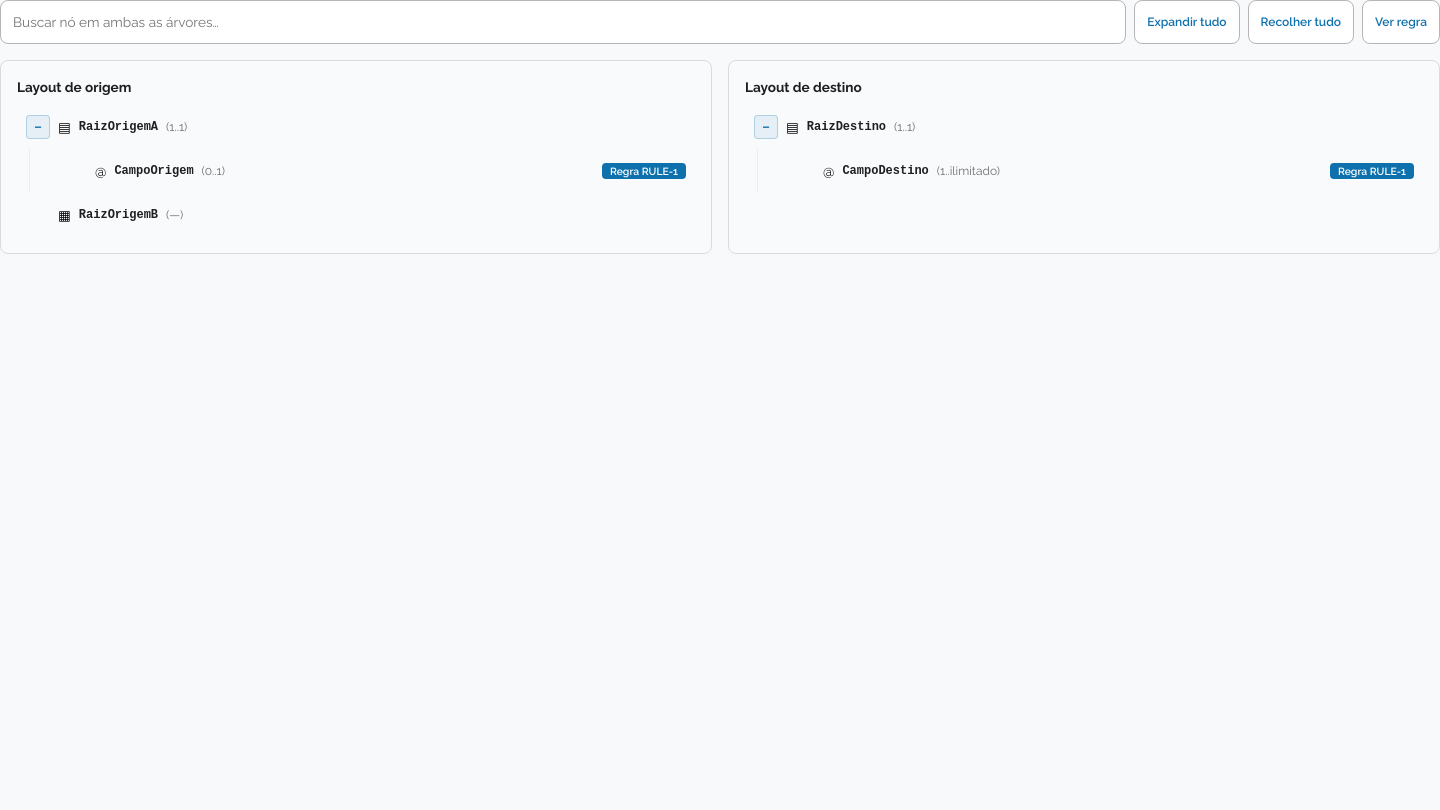
Test: MappingLayoutTreeView › abre o painel de detalhe da regra com humanDescription e technicalDetail preservando quebras de linha
This screenshot has width=1440, height=810.
Click the text "CampoOrigem": (154, 171) [114,164,194,178]
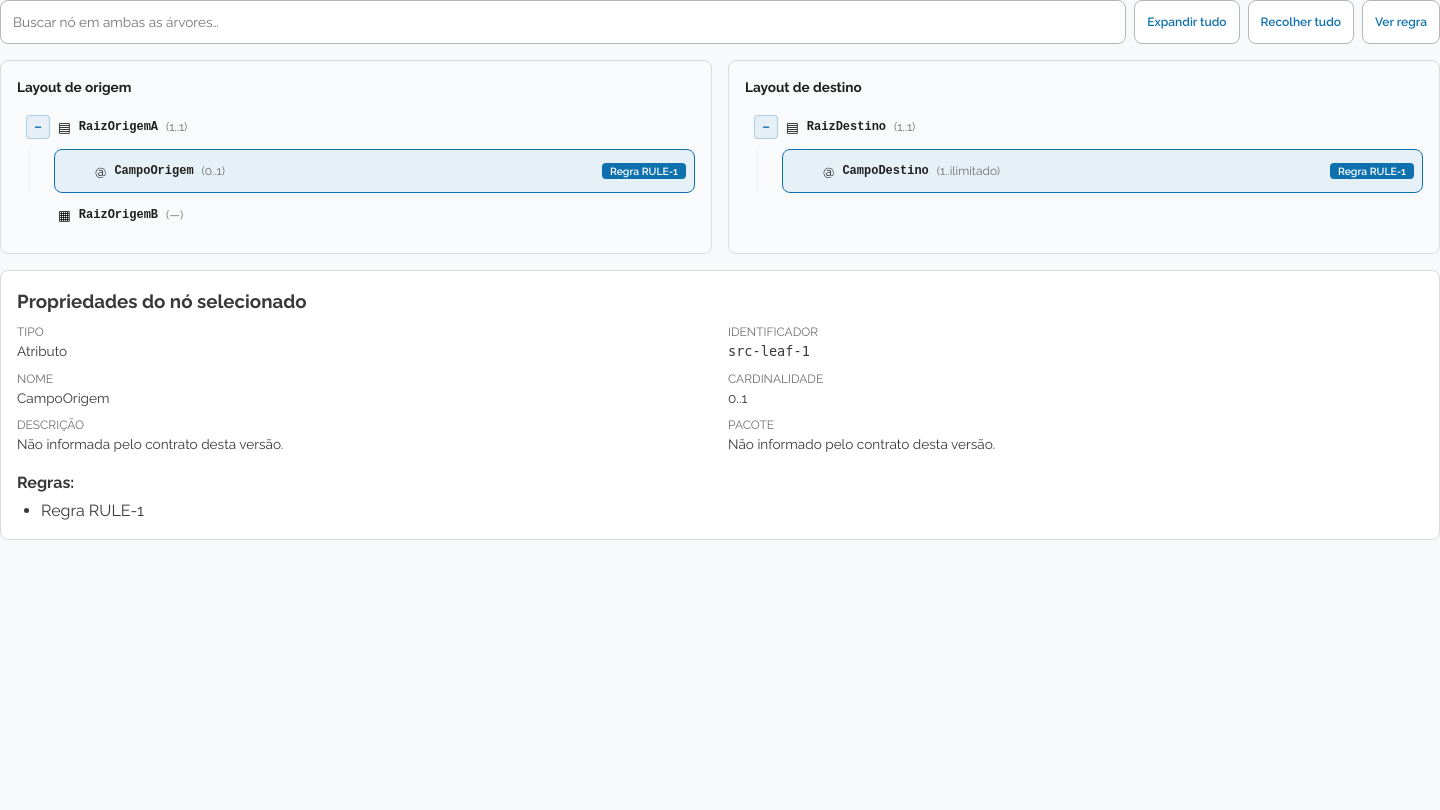
Click the button "Ver regra": (1401, 22) [1362,0,1439,44]
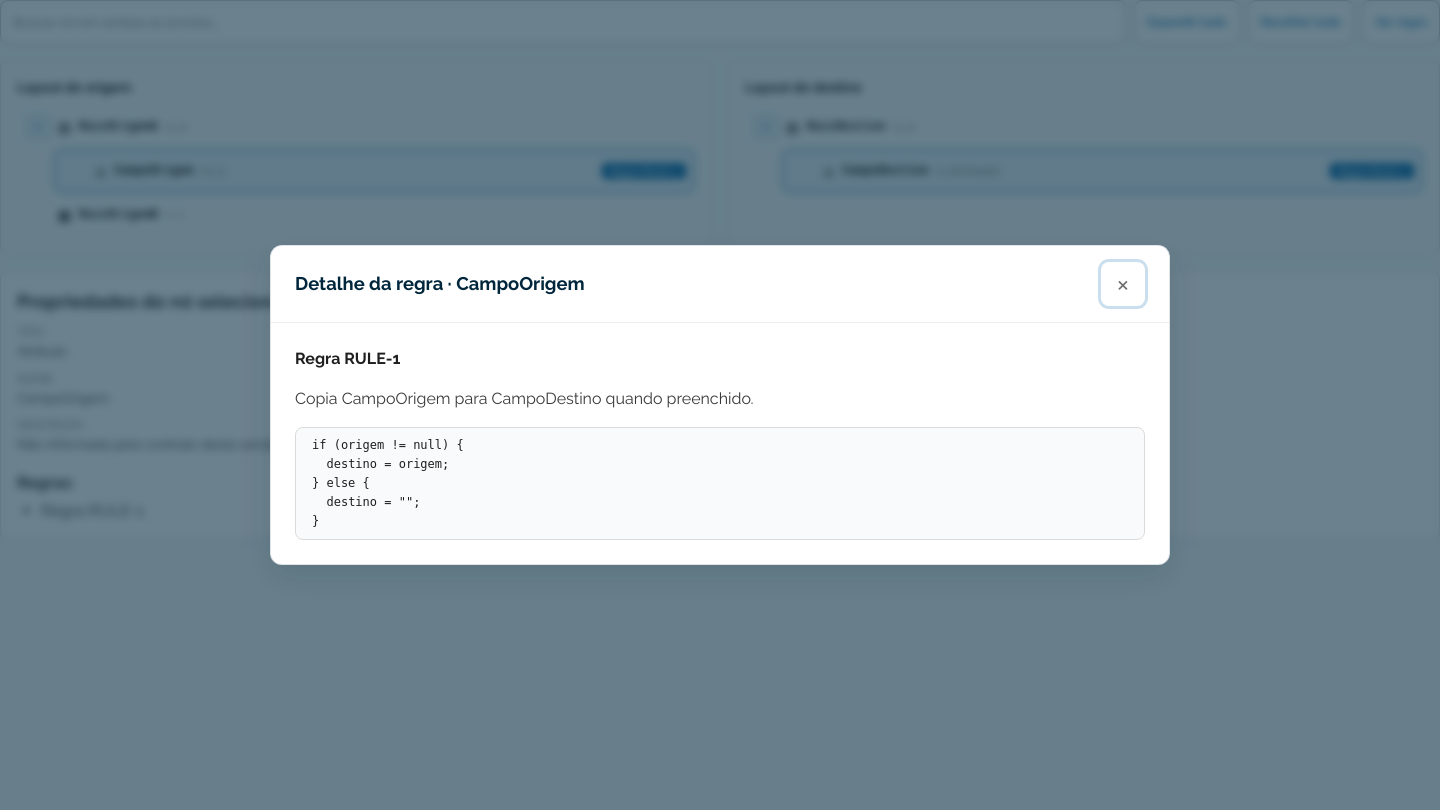
Expected: the heading "Regra RULE-1" is shown, [295,349,400,368]
Expected: the text "Copia CampoOrigem para CampoDestino quando preenchido." is shown, [295,389,754,408]
